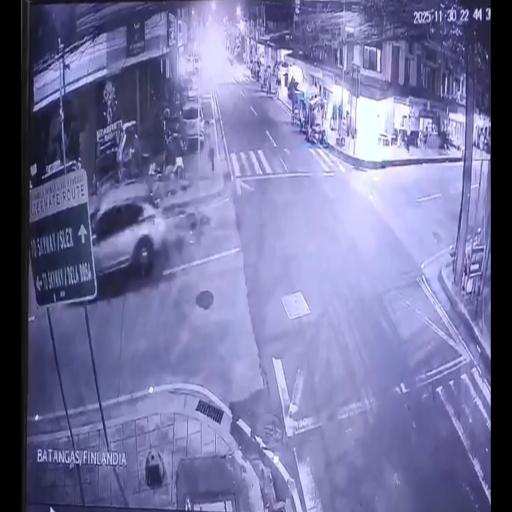Car: (68, 180, 164, 285)
